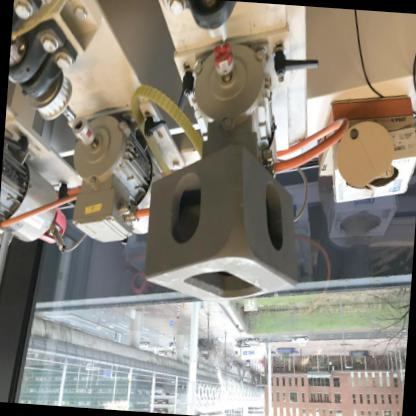CornerCasting: (141, 137, 307, 307)
